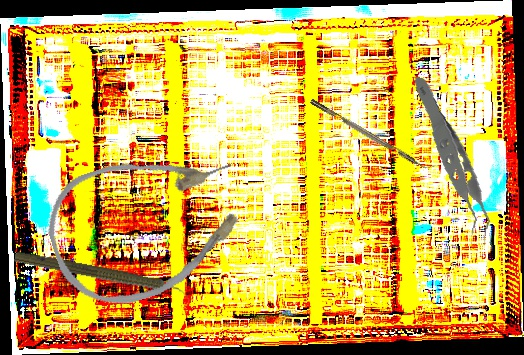Cannula: (34, 130, 263, 321)
Chopper: (309, 92, 437, 176)
Handpiece: (12, 247, 196, 304)
Tissue Forceps: (390, 76, 510, 247)
